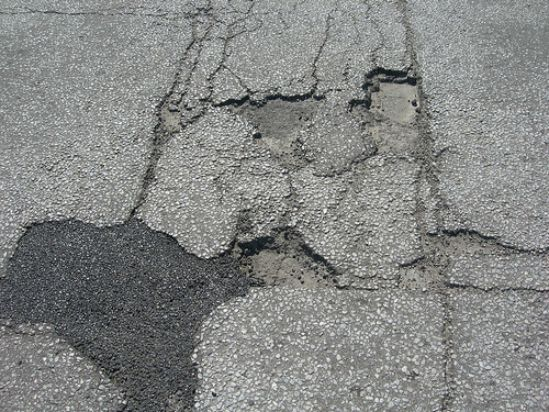pothole: (239, 228, 338, 289), (217, 87, 329, 133), (353, 65, 430, 130)
